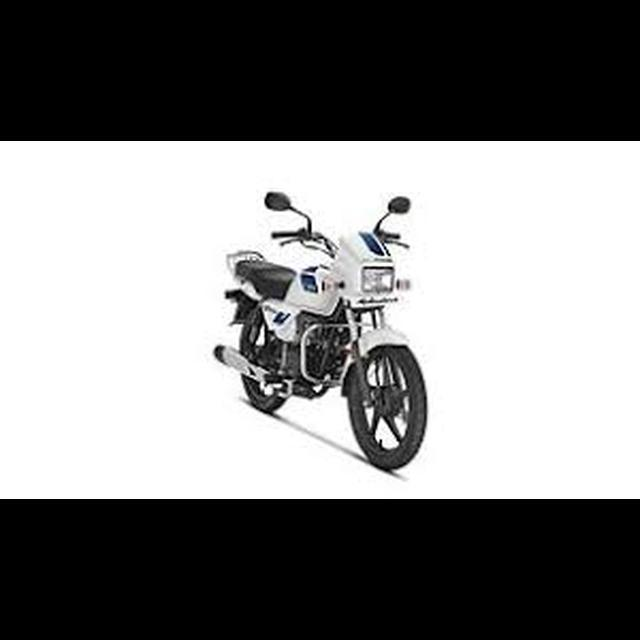motorcycle: (207, 185, 434, 478)
